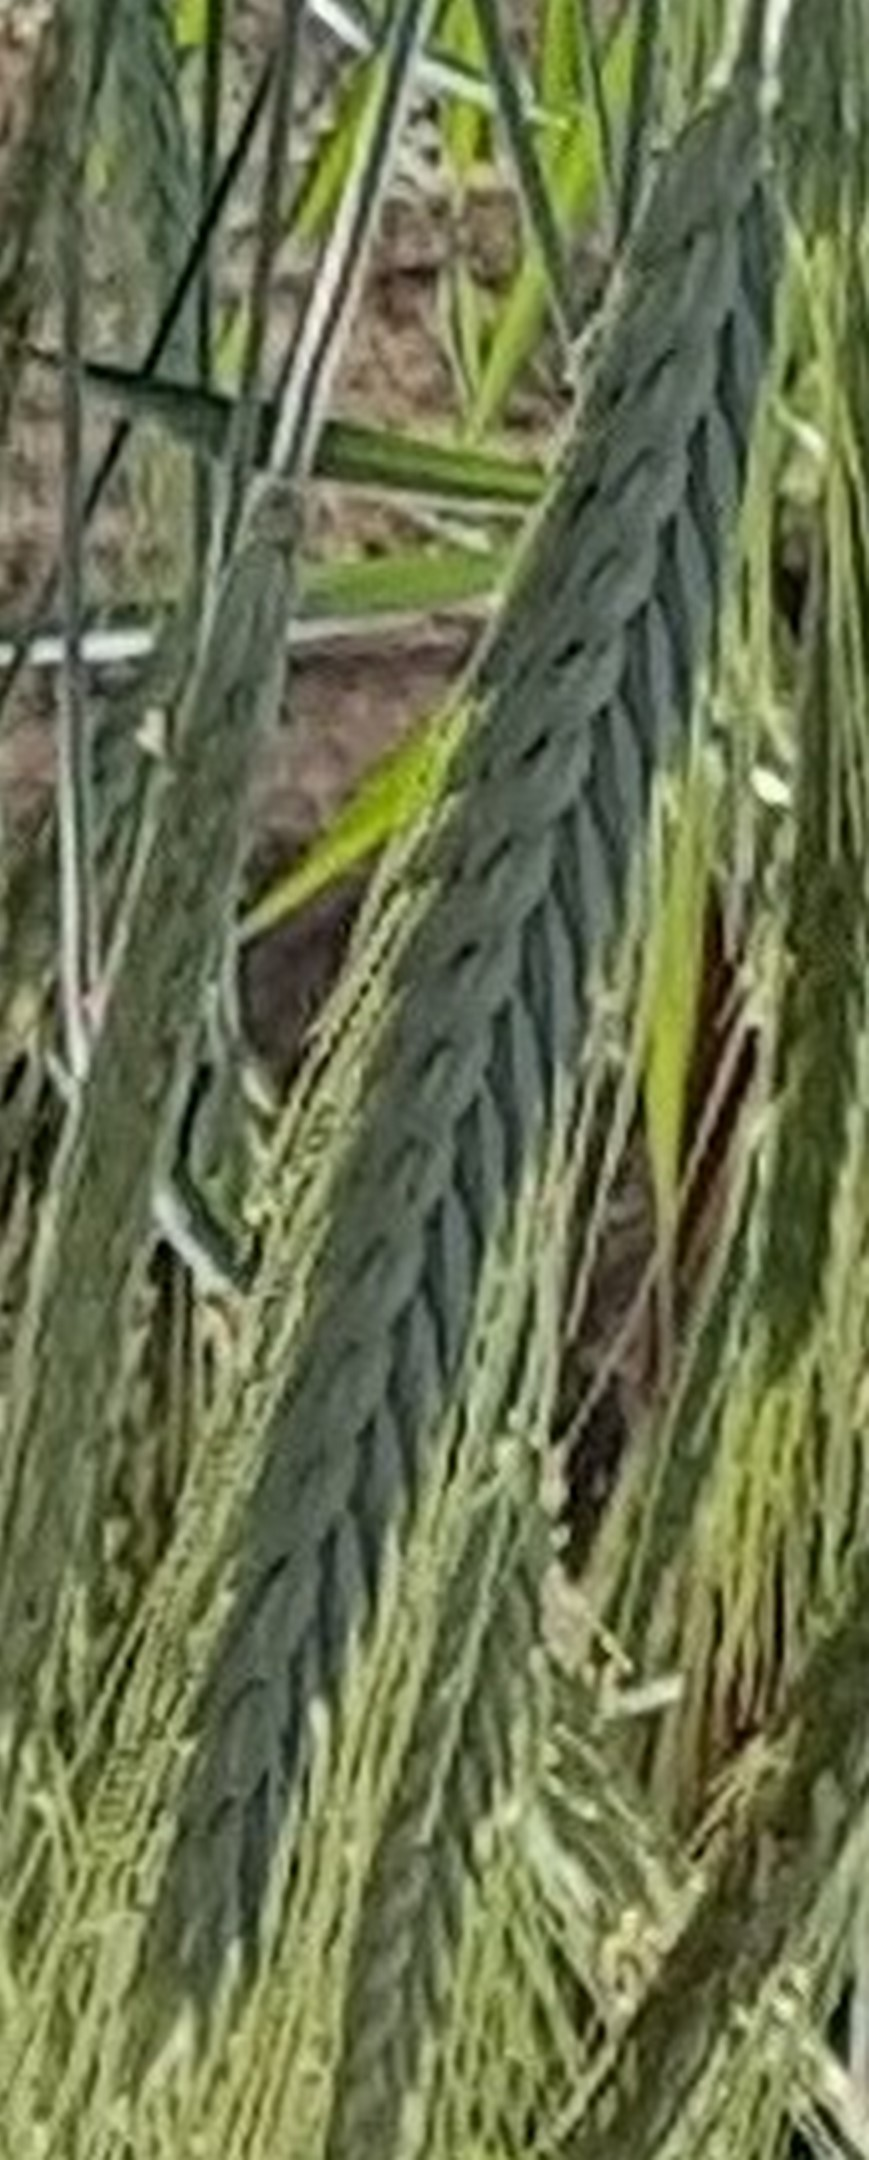Healthy Wheat: (134, 67, 837, 1970)
